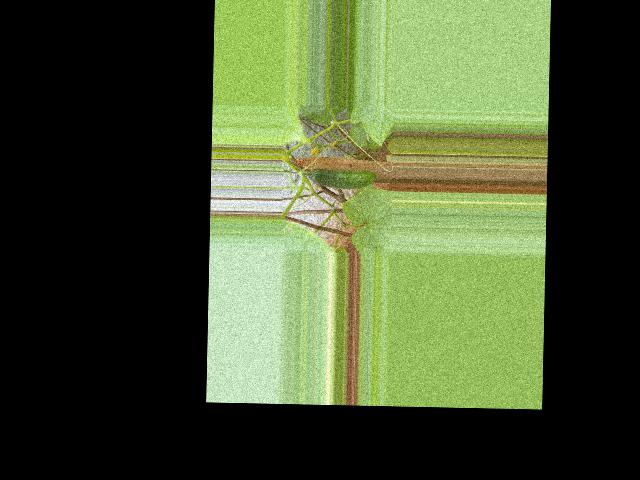cucumber: (310, 167, 376, 189)
